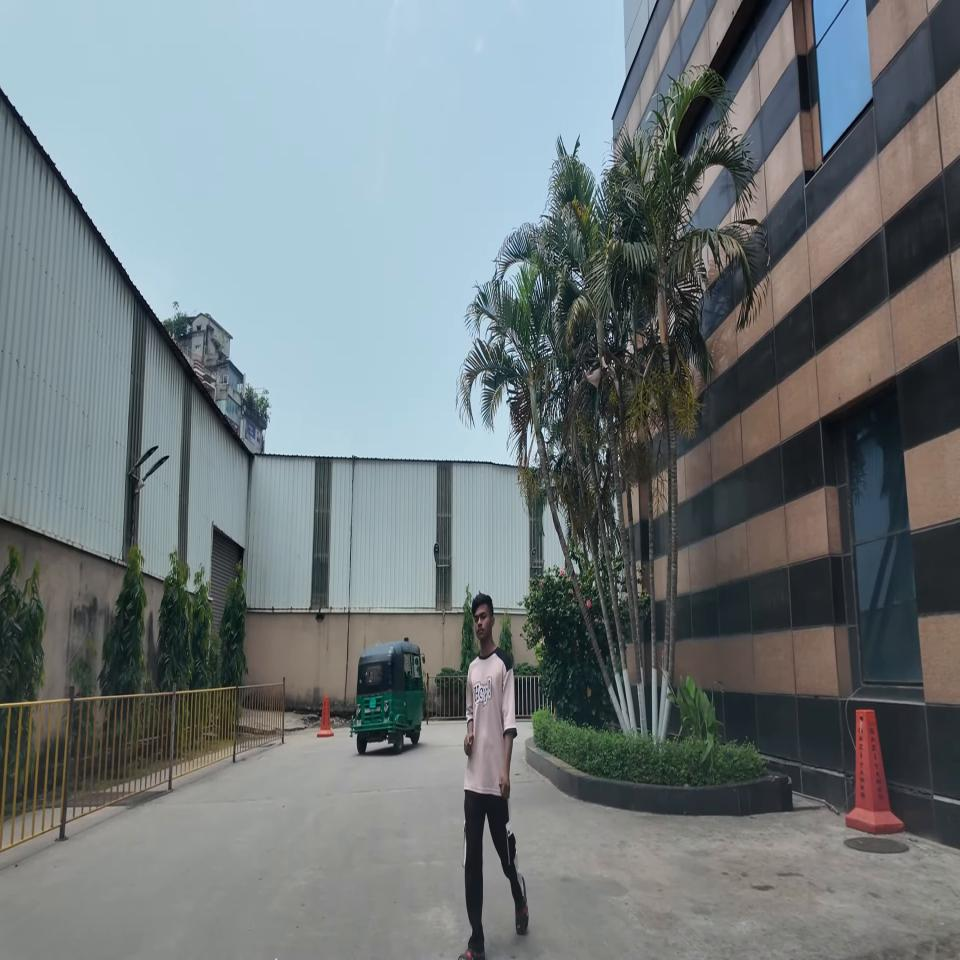person: (450, 592, 531, 960)
